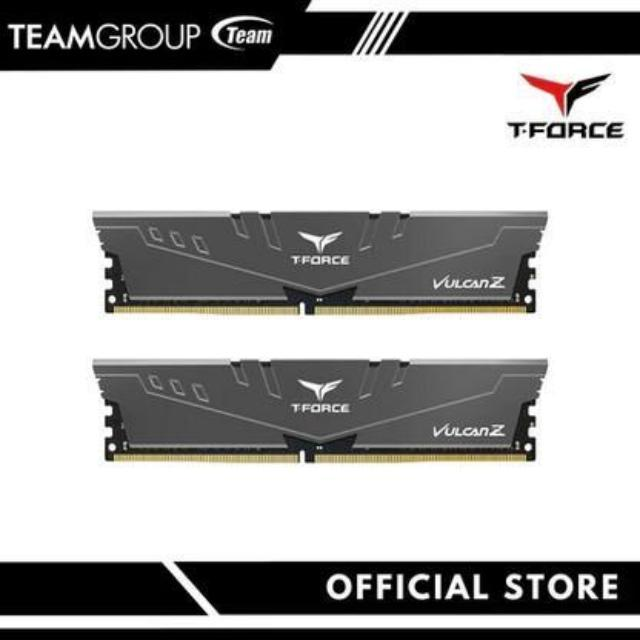RAM: (89, 205, 548, 328), (86, 354, 548, 466)
